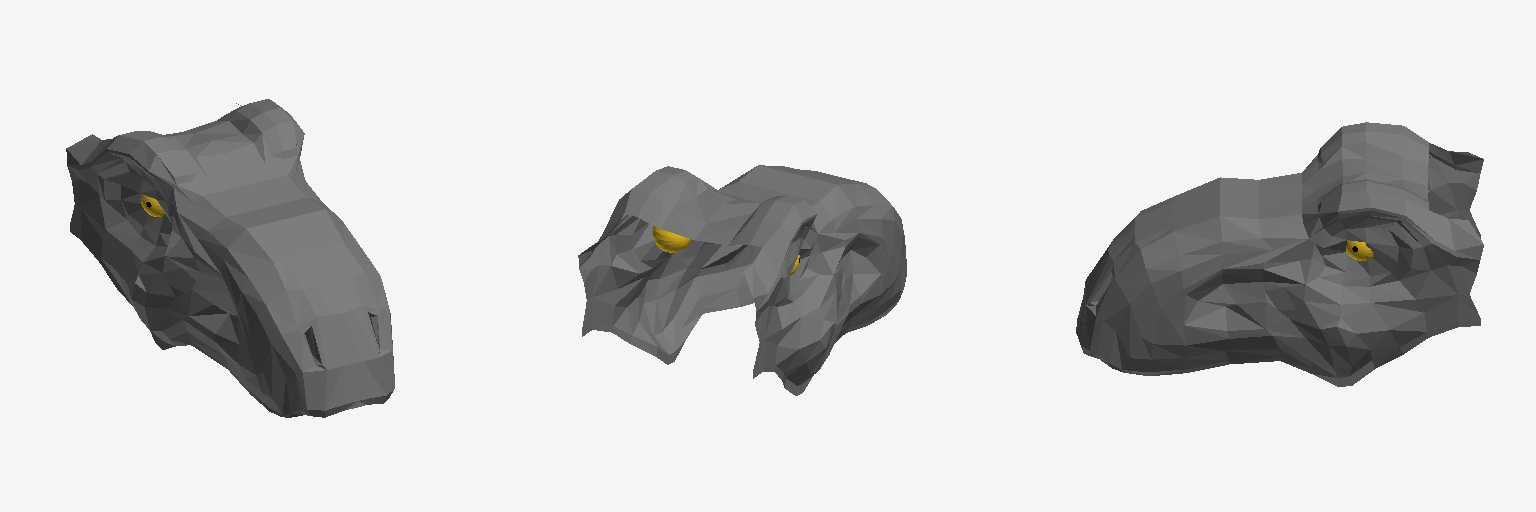
The model's file is TRex_head.obj.
The picture shows the model from 3 angles: view 1: azimuth 30°, elevation 25°; view 2: azimuth 150°, elevation 25°; view 3: azimuth 270°, elevation 25°; orthographic projection.
Parts seen in each view (by area): view 1: pPlane1 pPlane2; view 2: pPlane1 pPlane2, Eye_Left Eye; view 3: pPlane1 pPlane2.
Boxes of the visible parts, x1,y1,x2,y2 form: pPlane1 pPlane2: [66, 99, 394, 417]; pPlane1 pPlane2: [578, 165, 906, 395]; Eye_Left Eye: [652, 226, 690, 252]; pPlane1 pPlane2: [1076, 122, 1483, 386].
Bounding box in the file's own units: 1.55 × 1.6 × 2.96.